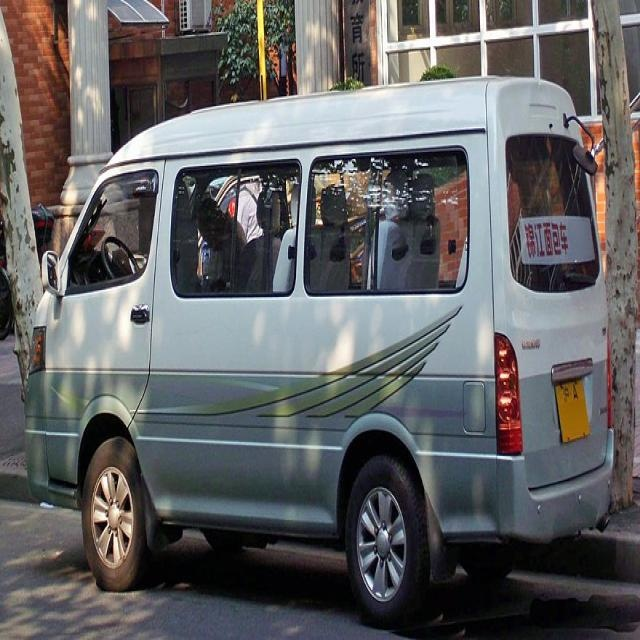Van: (20, 88, 620, 605)
